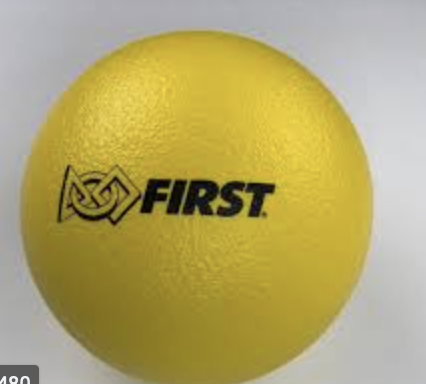powercell: (11, 18, 393, 378)
